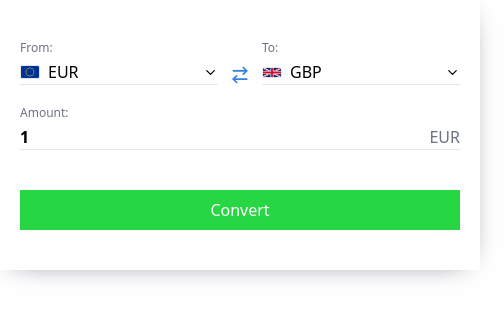
Test: CurrencyConverter Component › displays converted amount input when converted
The width and height of the screenshot is (504, 310).
Click the button "Convert".
click(240, 210)  # box [20,190,460,230]
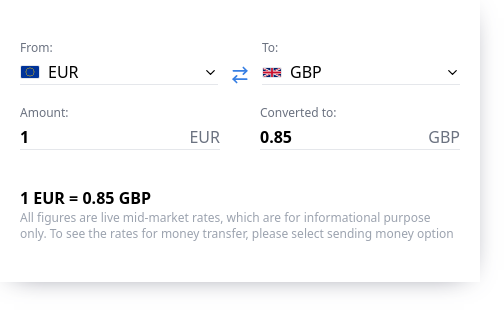
expect the number field named "Converted to:" is shown: met, box [260,125,420,149]
